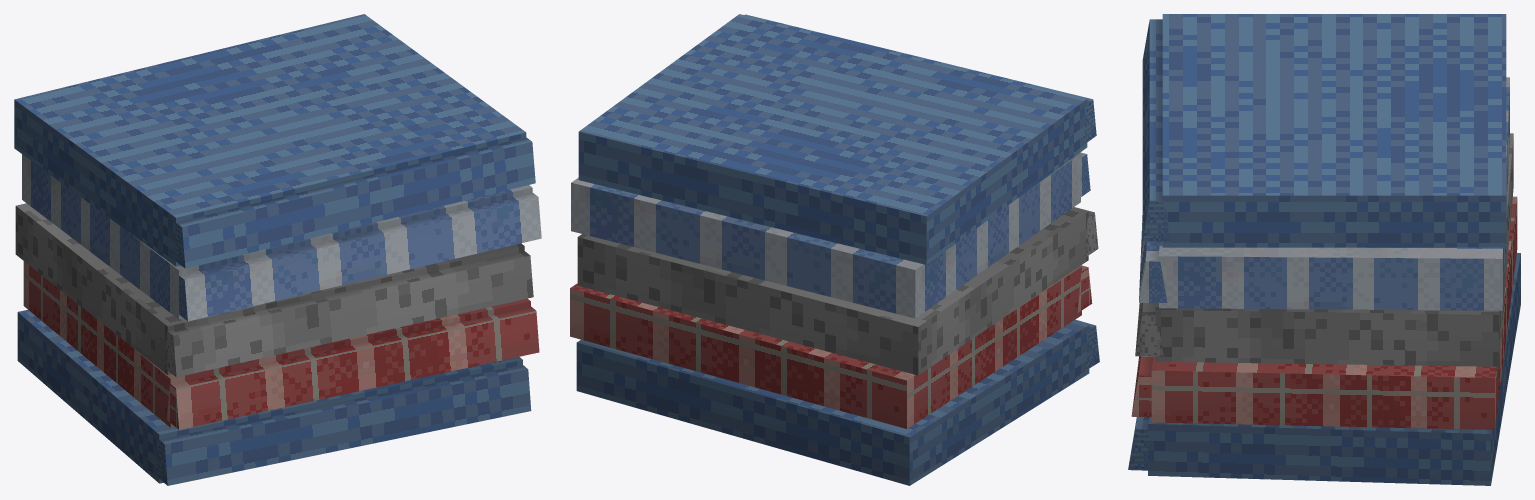
Rendered from folded_clothes.glb.
The picture shows the model from 3 angles, left to right: view 1: azimuth 30°, elevation 25°; view 2: azimuth 150°, elevation 25°; view 3: azimuth 270°, elevation 25°; orthographic projection. The views are drawn at different scales.
Parts seen in each view (by area): view 1: folded_clothes; view 2: folded_clothes; view 3: folded_clothes.
Boxes of the visible parts, bbox=[...] form: folded_clothes: bbox=[14, 14, 541, 485]; folded_clothes: bbox=[570, 14, 1099, 485]; folded_clothes: bbox=[1128, 14, 1520, 485].
Size of the model in its own units: 0.3211 by 0.22 by 0.2743.
Materials: 1 (1 with a texture image).
